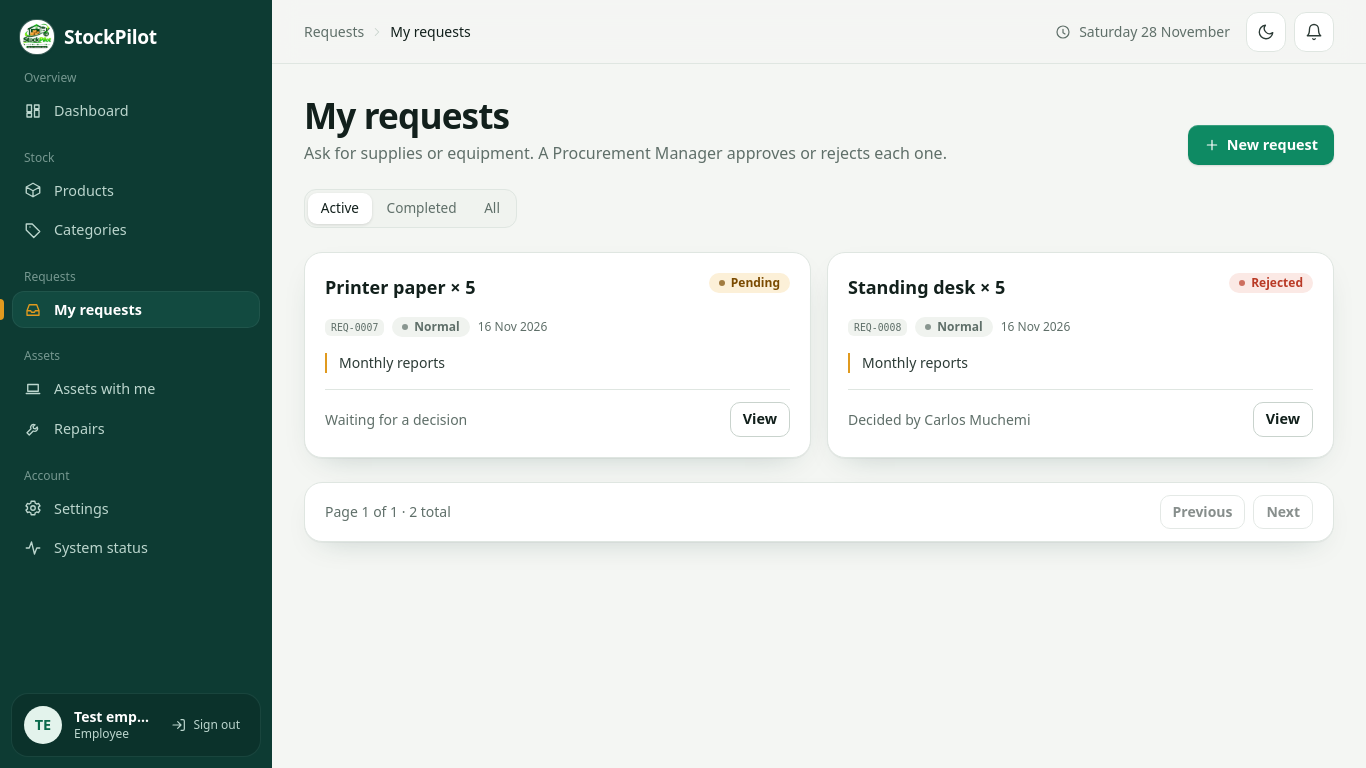
Test: my requests › lets only pending requests be cancelled, and shows the decision on the others
This screenshot has width=1366, height=768.
Click the button with aria-label "View request for Standing desk" at (1283, 420), box [1253,402,1313,437]
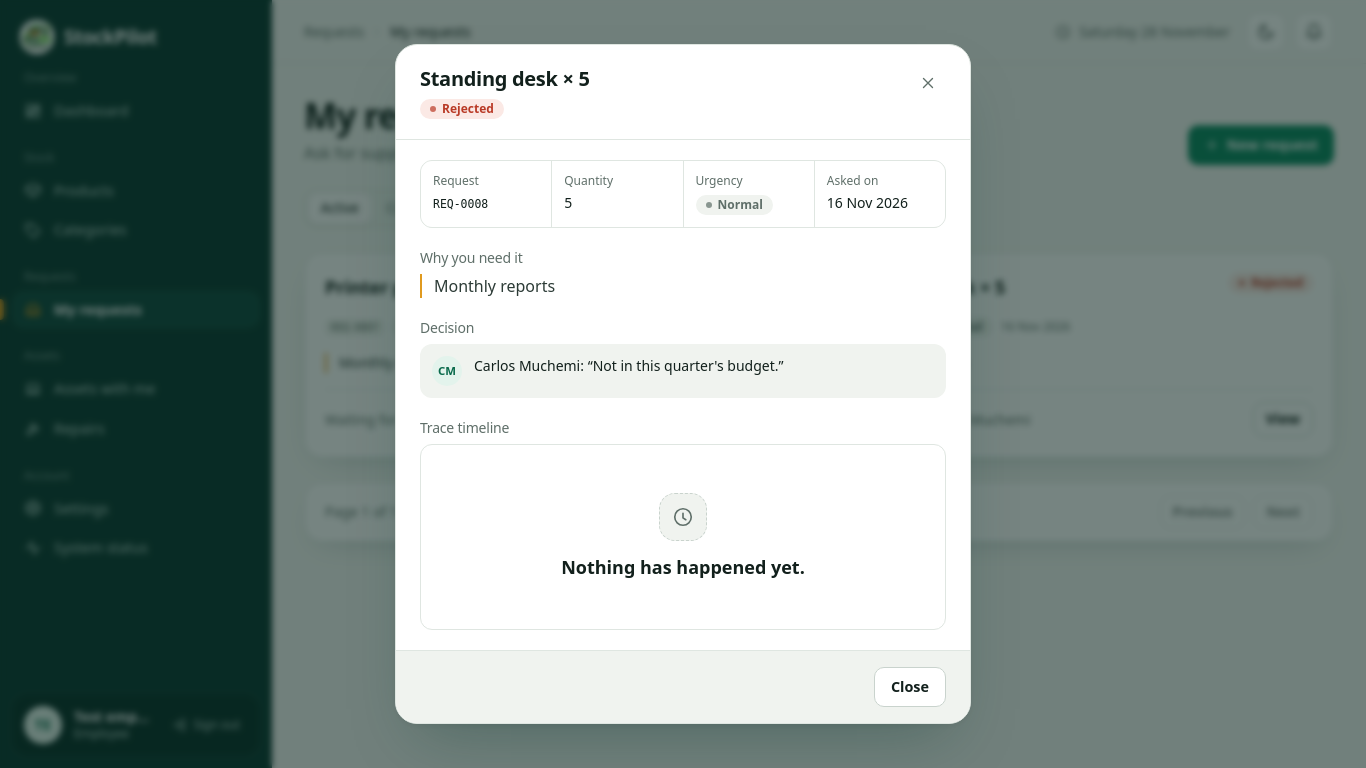
Expected: the button "Cancel request" is not shown
Now the text "Carlos Muchemi: “Not in this quarter's budget.”" is shown, box [474,356,784,376]
Click the button "Close" at (910, 687), box [874,667,946,707]
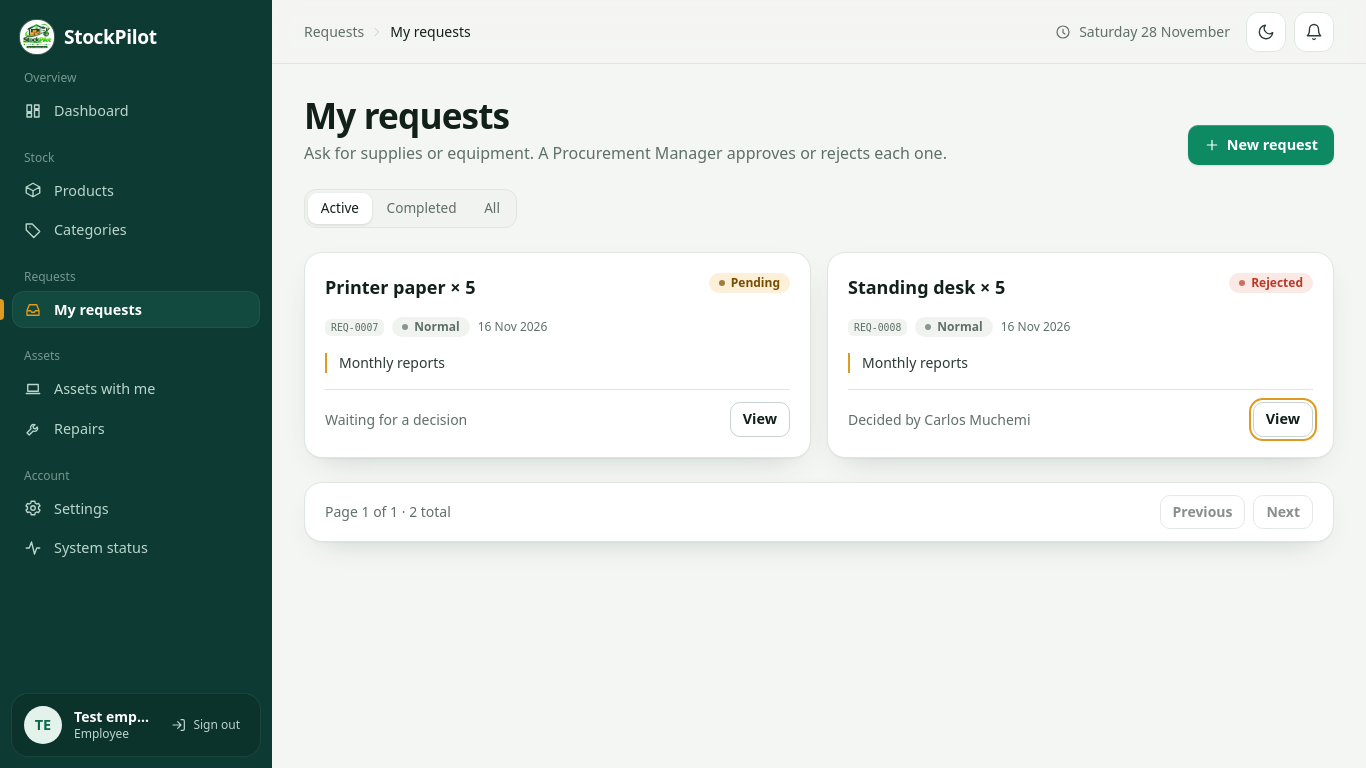
Click the button with aria-label "View request for Printer paper" at (760, 420), box [730,402,790,437]
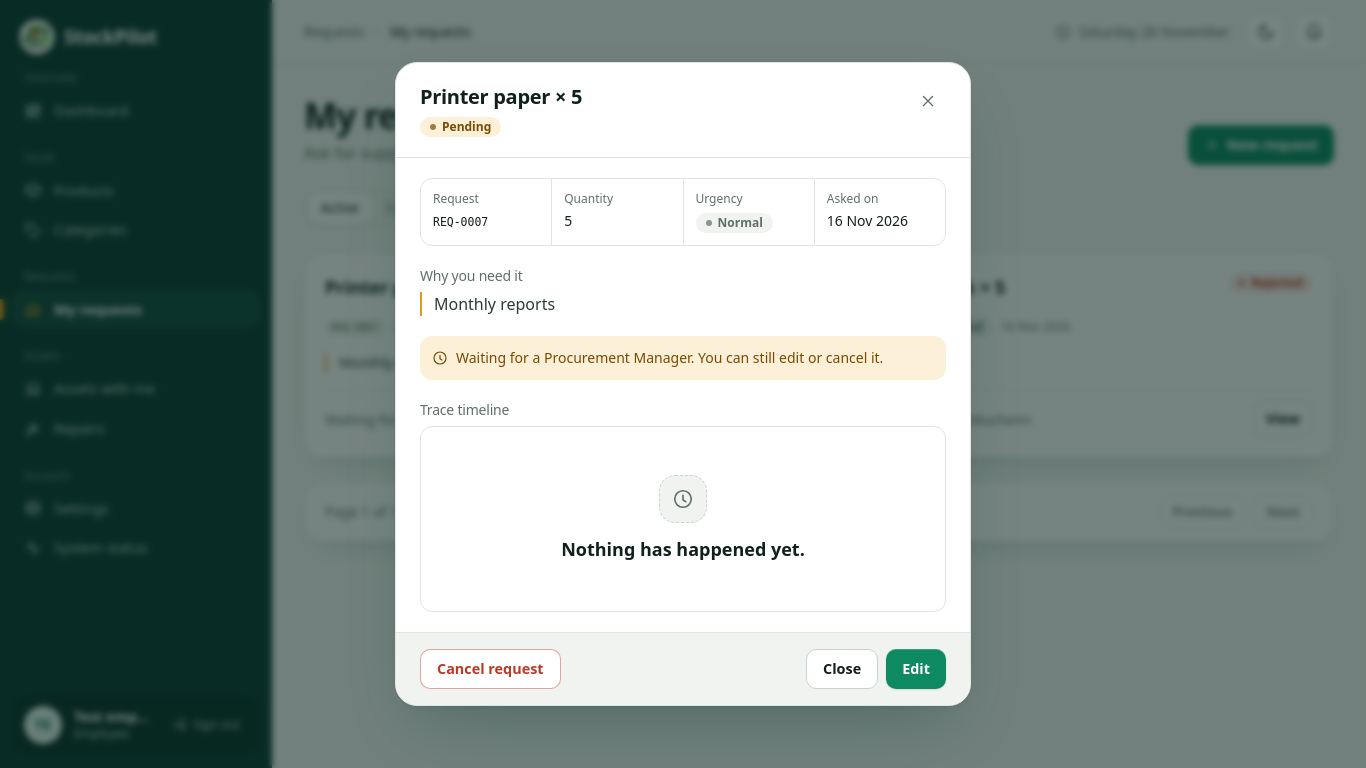
Click the button "Cancel request" at (490, 669), box [420,649,561,689]
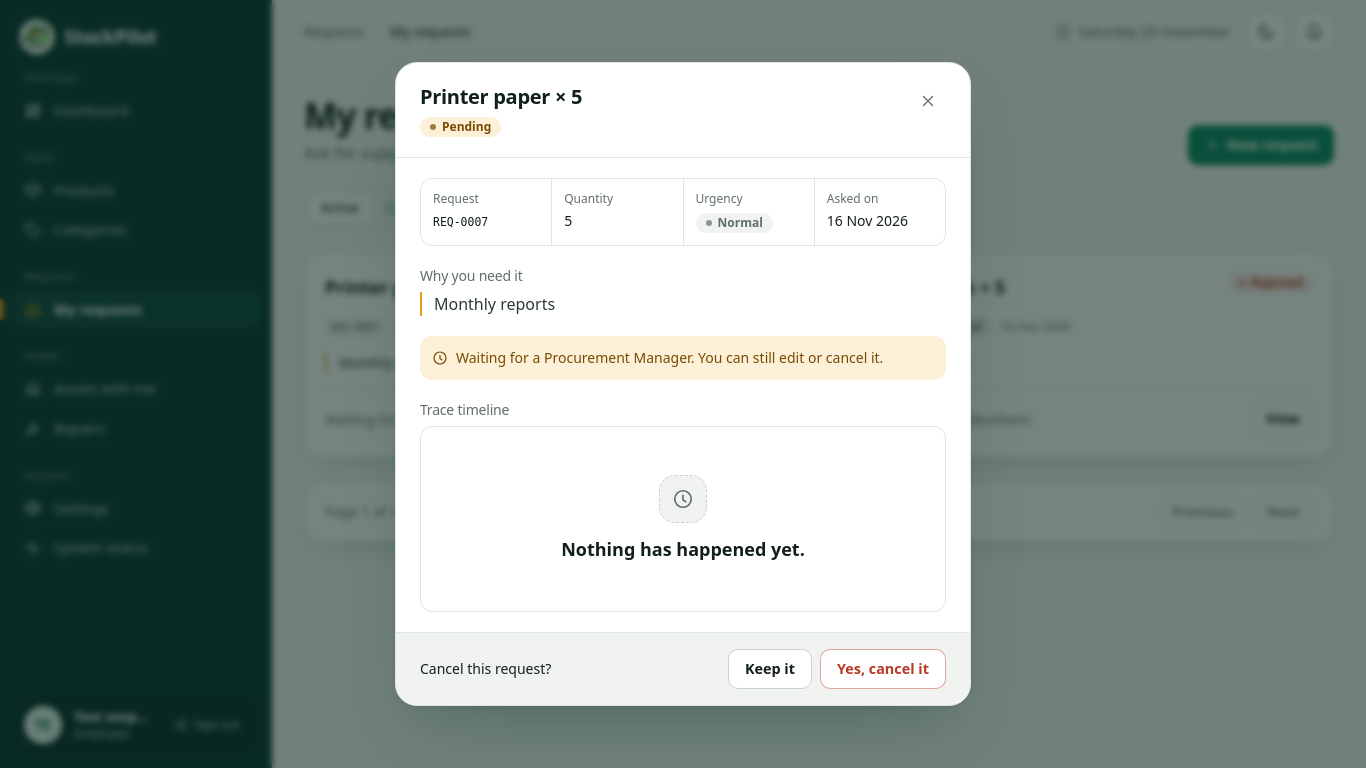
Click the button "Yes, cancel it" at (883, 669), box [820,649,946,689]
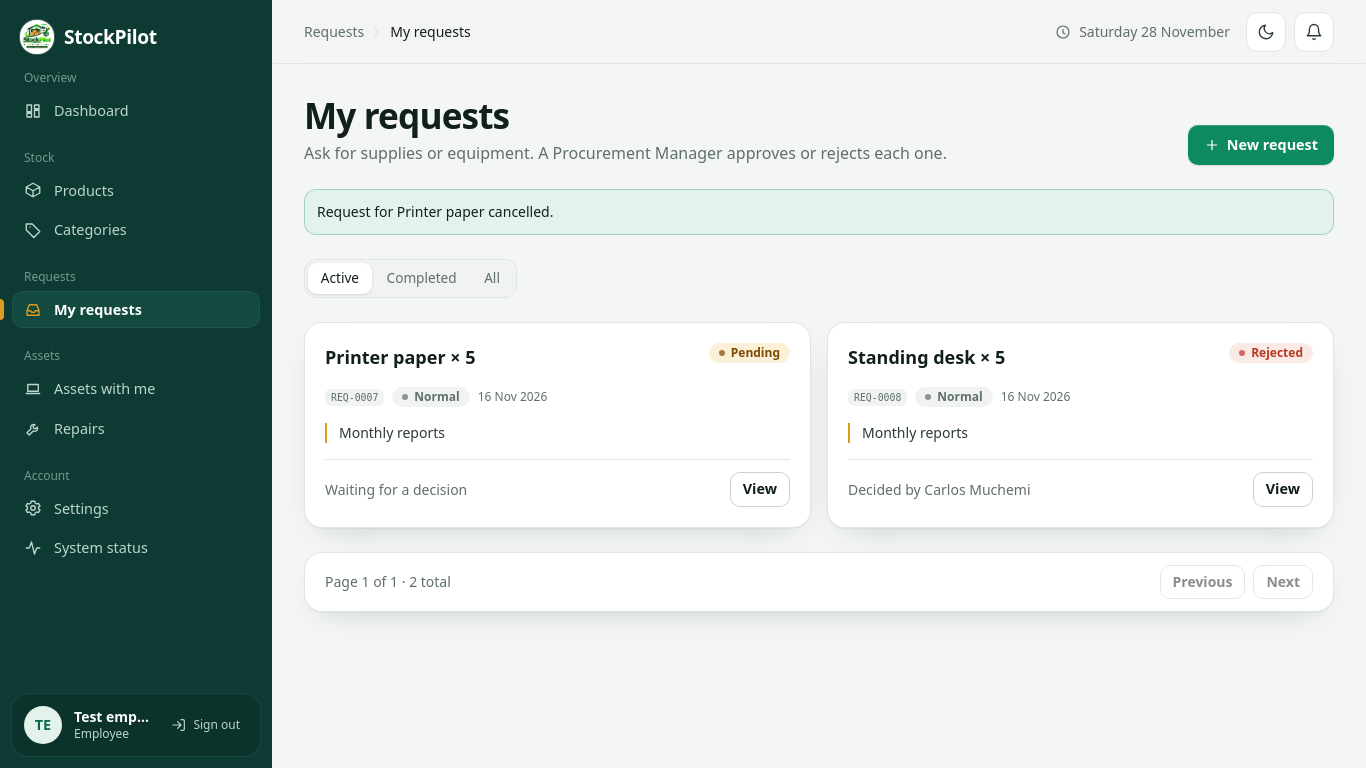
Now the text "Request for Printer paper cancelled." is shown, box [304,189,1334,235]
